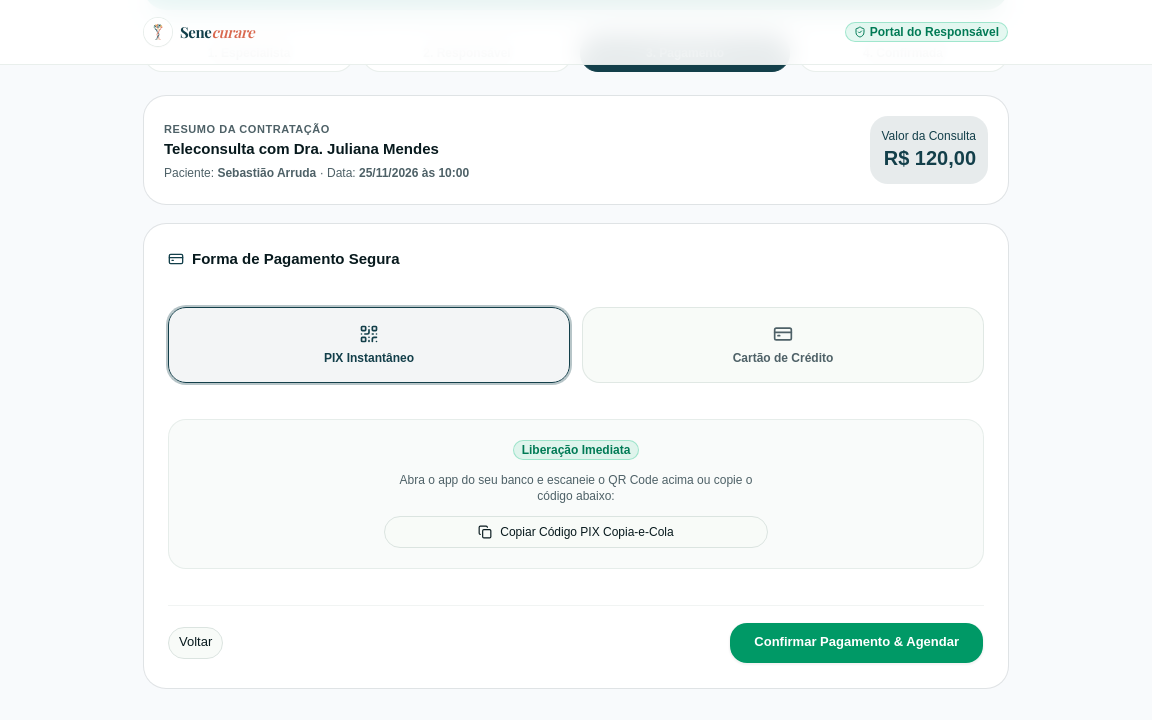
it: AgendarFamiliar Page (Portal do Responsável Financeiro) › permite quitar consulta pré-agendada via rota de pagamento direto
(page scrolled)
Check: the text "Resumo da Contratação" is shown, box [164,123,330,135]
Check: the text "R$ 120,00" is shown, box [884,147,976,169]
Click the button "Confirmar Pagamento & Agendar": click(857, 643) [729,622,984,664]
(page scrolled)
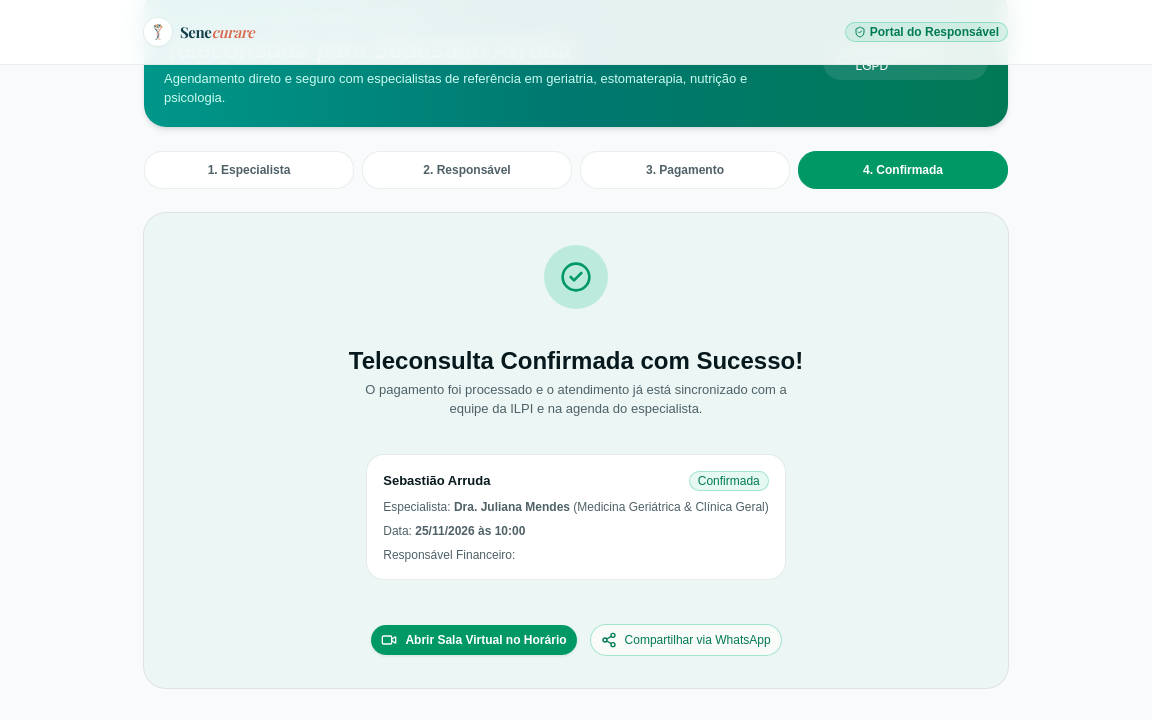
Check: the heading "Teleconsulta Confirmada com Sucesso!" is shown, box [349,347,803,374]
